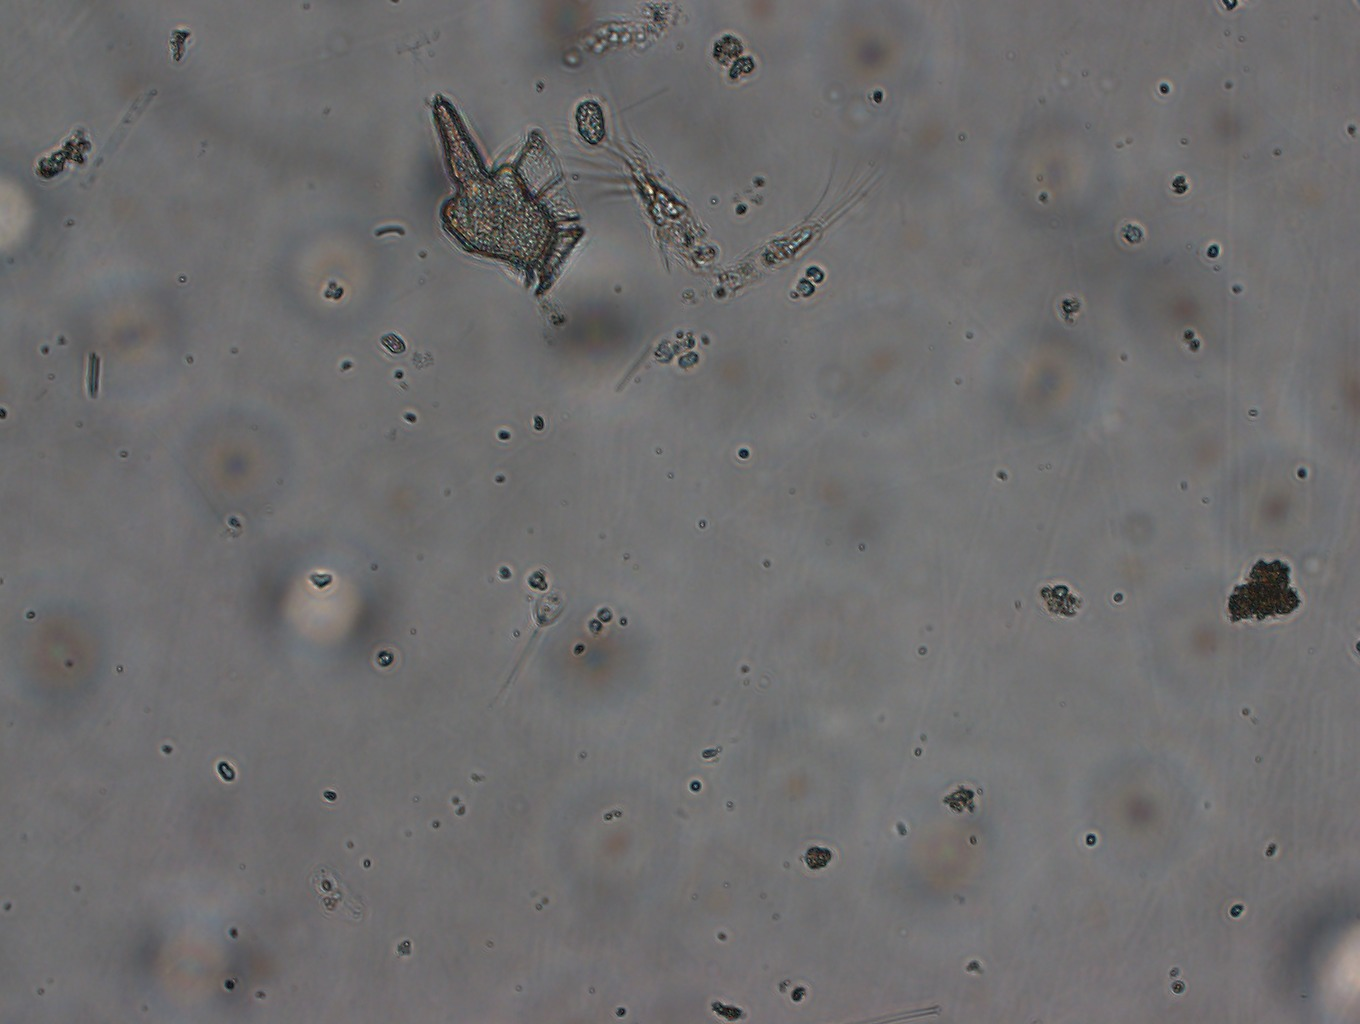dinophysis caudata: (410, 83, 600, 313)
